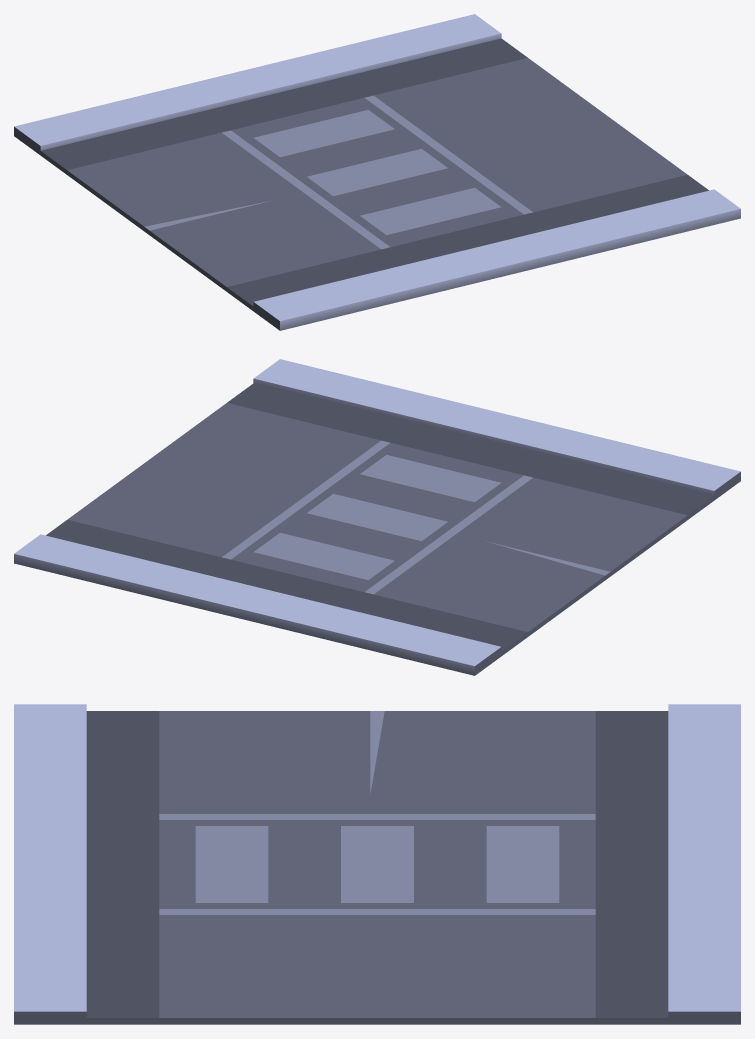
The model's file is road-crossing.glb.
The picture shows the model from 3 angles, top to bottom: view 1: azimuth 30°, elevation 25°; view 2: azimuth 150°, elevation 25°; view 3: azimuth 270°, elevation 25°; orthographic projection. The views are drawn at different scales.
Visible parts, largest first — view 1: road-crossing; view 2: road-crossing; view 3: road-crossing.
Boxes of the visible parts, <box> form: road-crossing: <box>14,14,740,330</box>; road-crossing: <box>14,359,740,675</box>; road-crossing: <box>14,704,740,1024</box>.
Size of the model in its own units: 1 by 0.02 by 1.
Materials: 1 (1 with a texture image).
